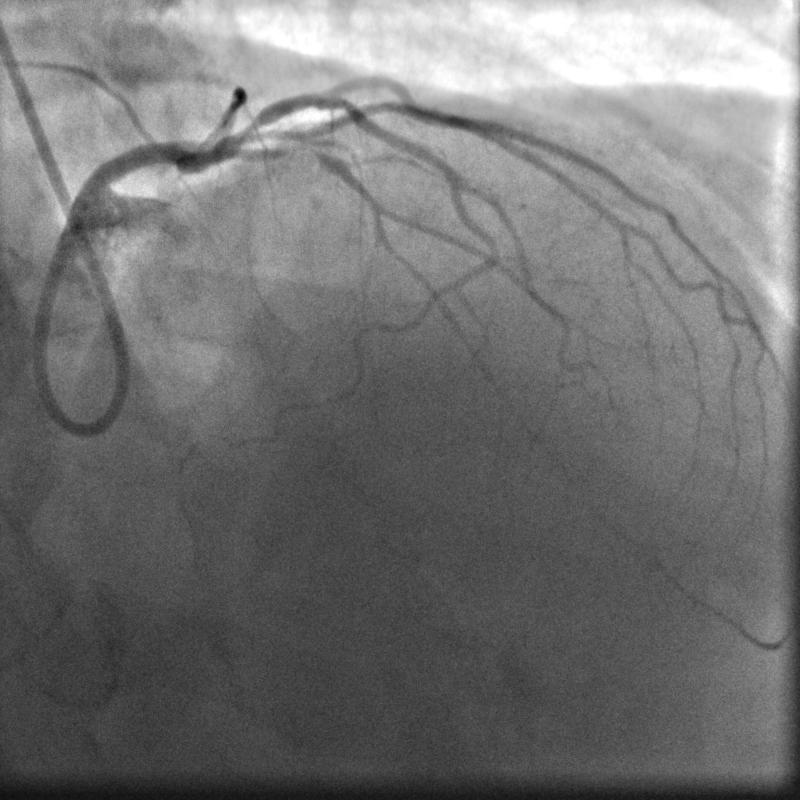Stenosis: (233, 117, 271, 147)
